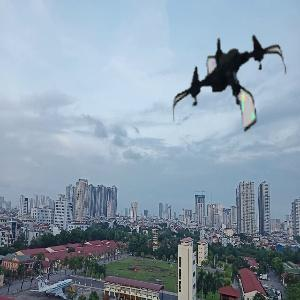drone: (172, 23, 289, 140)
